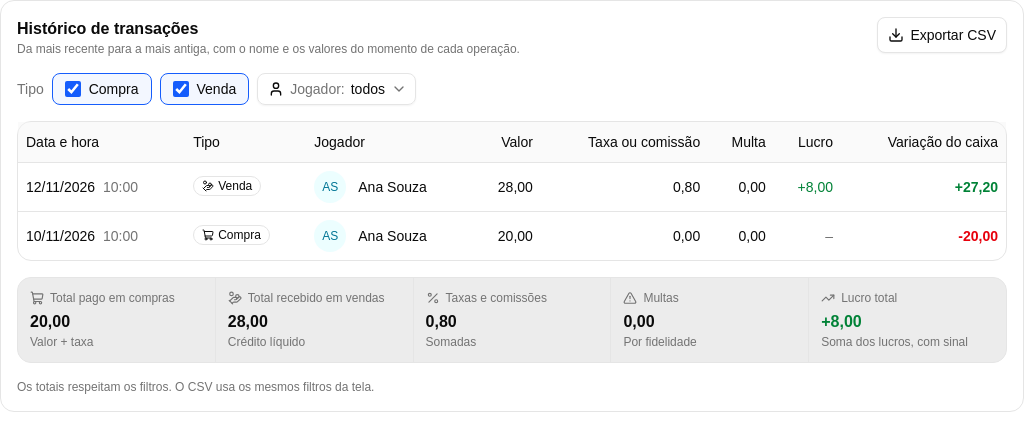
HistoricoDoClube › mostra as transações e os totais da API e filtra pelo tipo (AM-007)
Expected: the number of rows is 3, [18, 122, 1006, 162]; [18, 162, 1006, 211]; [18, 211, 1006, 260]
Click the checkbox labelled "Compra": (73, 89) [65, 81, 81, 97]
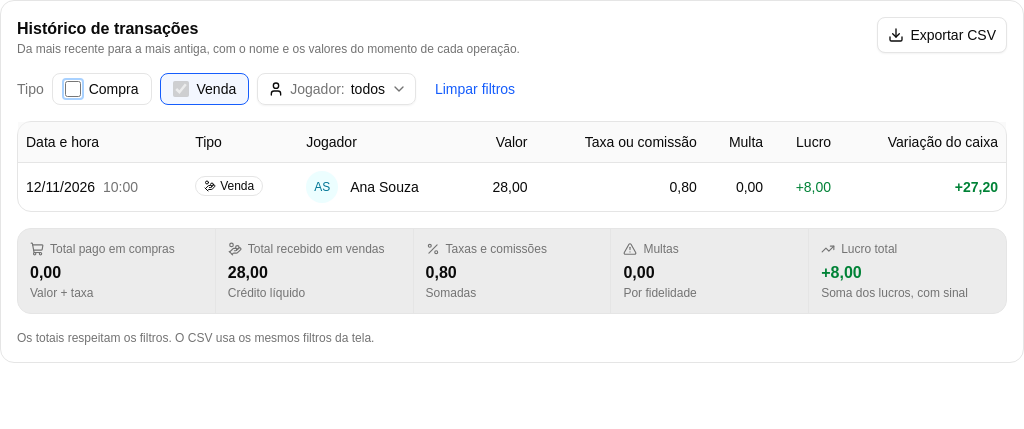
Expected: the number of rows is 2, [18, 122, 1006, 162]; [18, 162, 1006, 210]
Expected: the checkbox labelled "Venda" is disabled, [172, 81, 188, 97]
Expected: the button "Limpar filtros" is shown, [424, 73, 526, 105]
